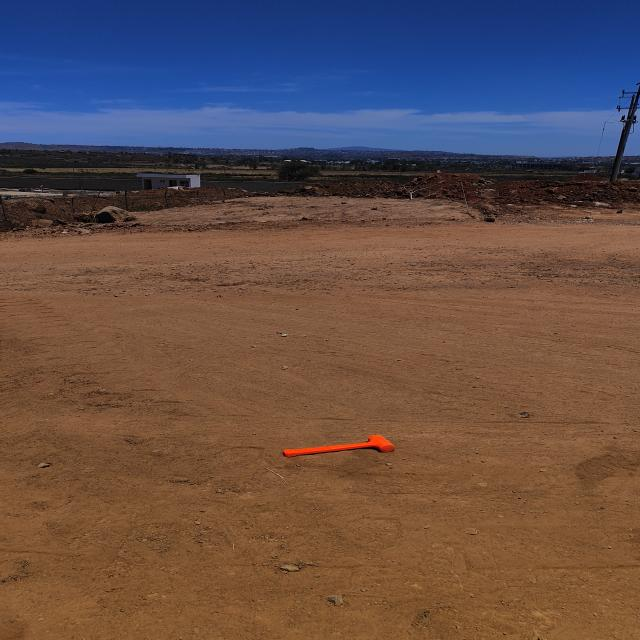Orange_hammer: (280, 434, 396, 458)
